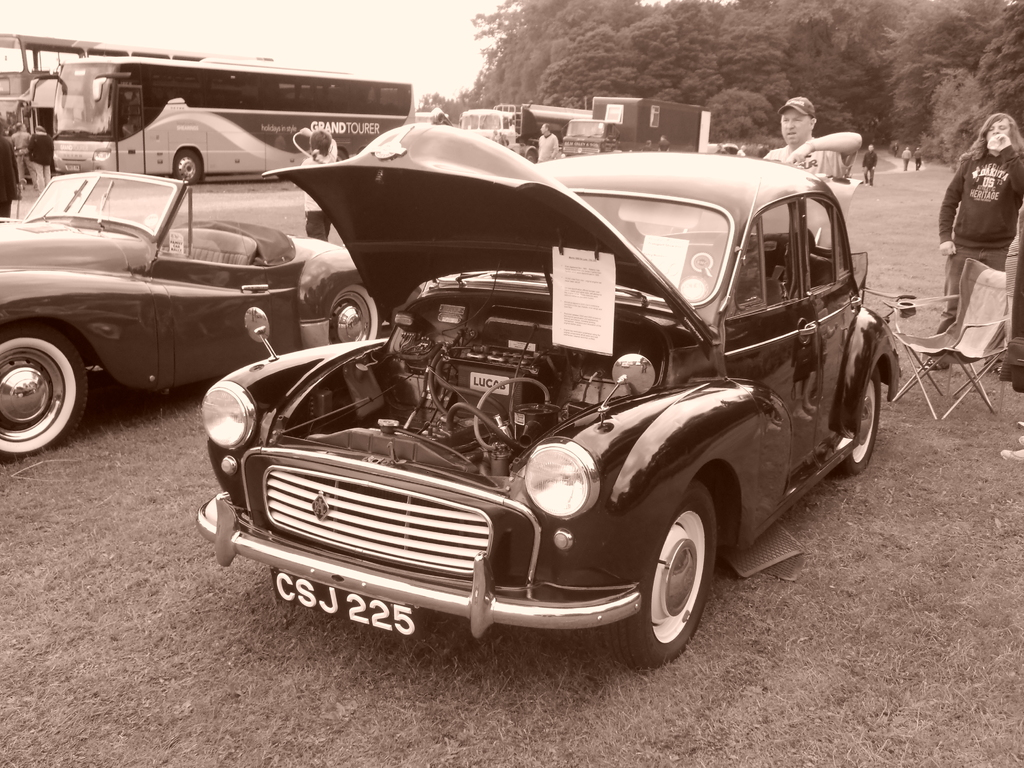Car: (184, 137, 894, 666), (0, 160, 393, 464)
